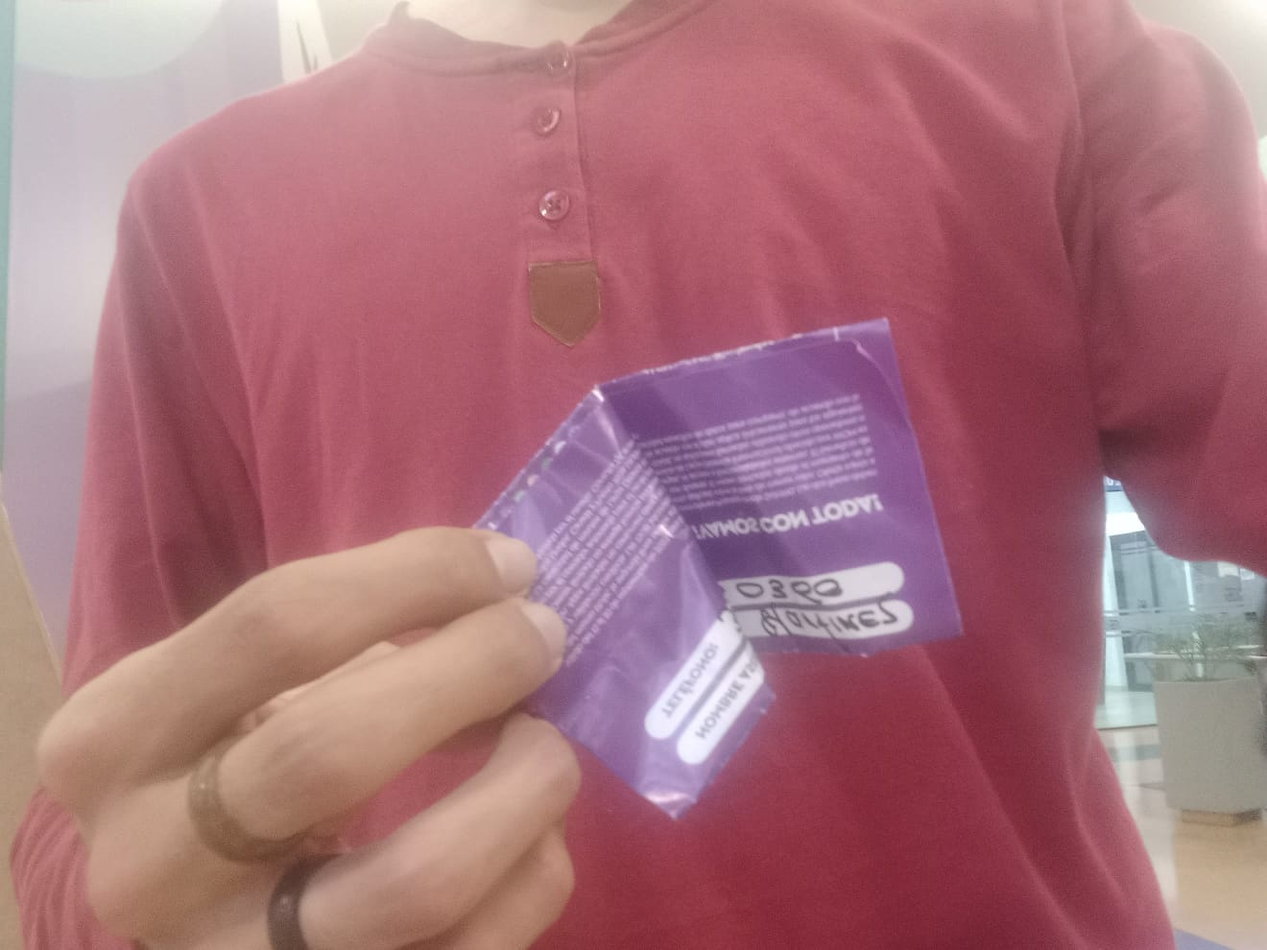Papel: (470, 315, 964, 824)
